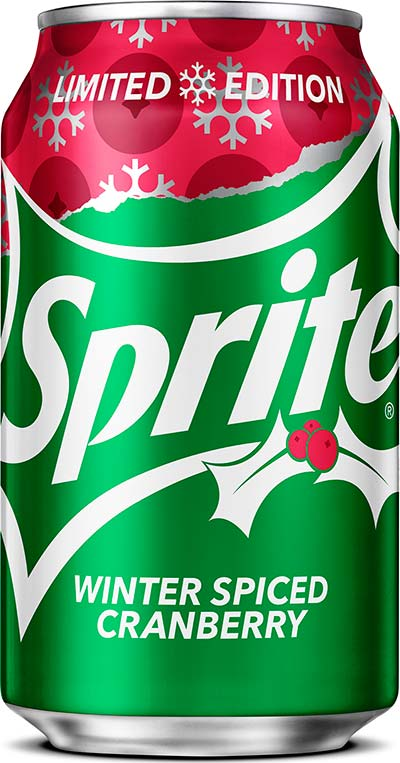Sprite: (5, 15, 400, 758)
